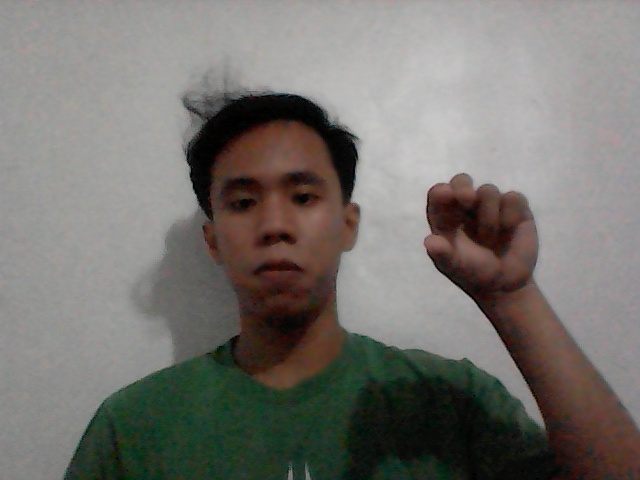No: (402, 158, 562, 316)
